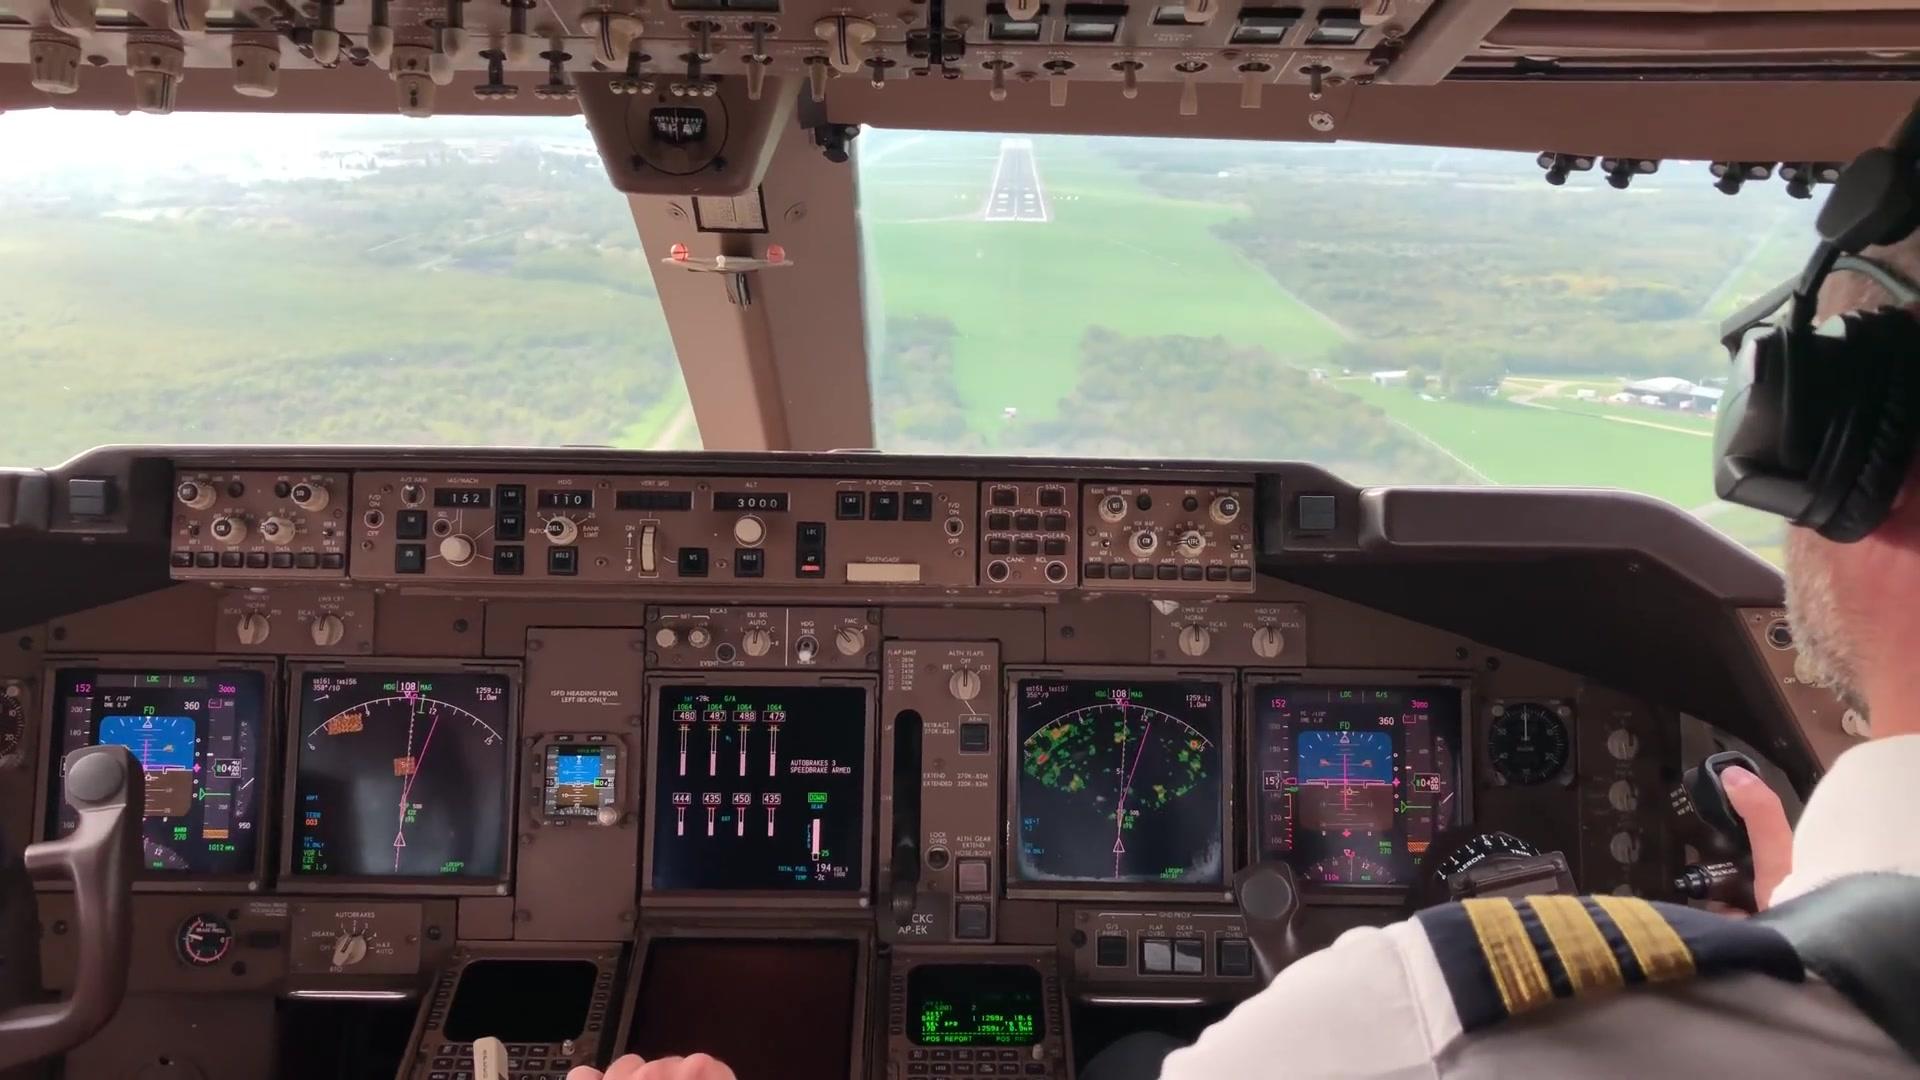entrance: (984, 216, 1048, 222)
runway: (978, 138, 1052, 223)
